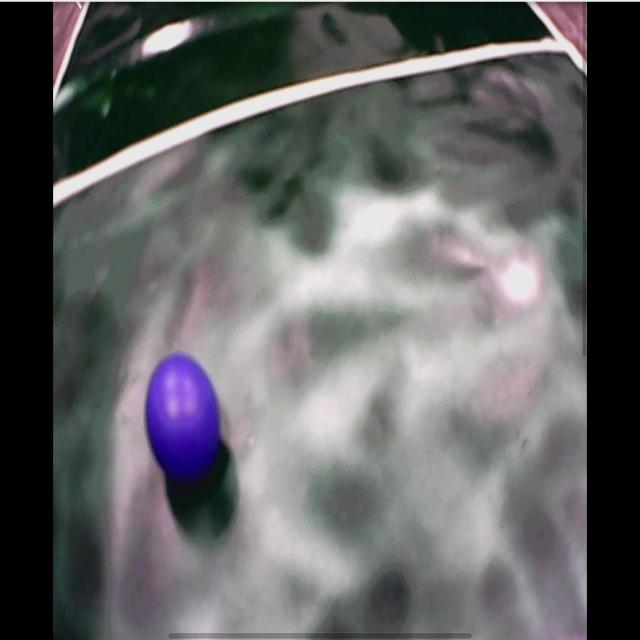ball: (146, 354, 221, 478)
